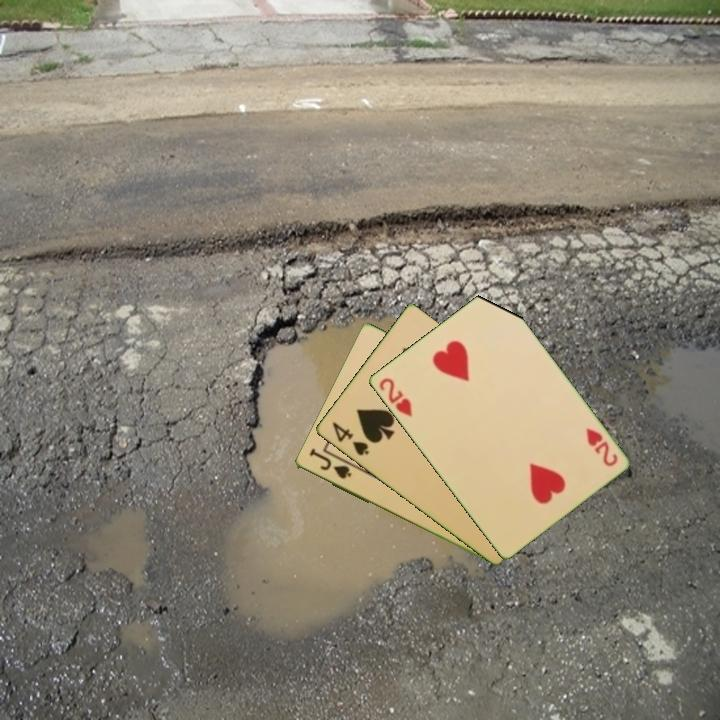2h: (375, 374, 415, 420), (582, 424, 620, 469)
4s: (328, 418, 371, 459)
Js: (305, 446, 354, 482)
